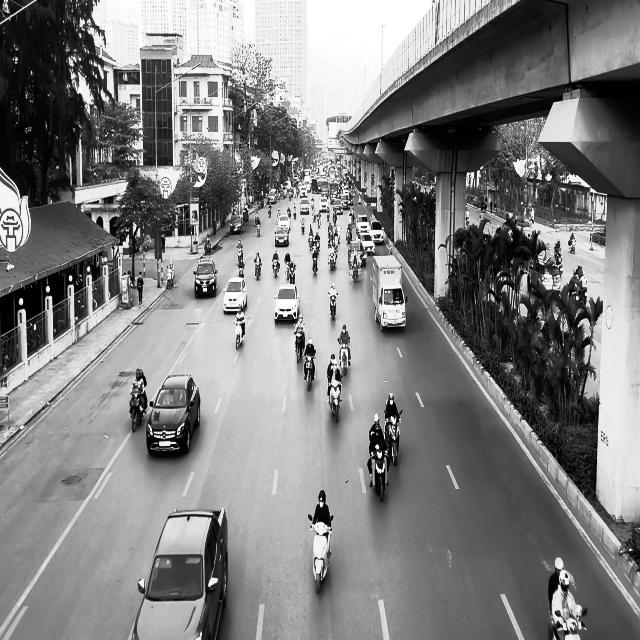car: (130, 507, 228, 639), (146, 372, 201, 456), (273, 282, 300, 322), (222, 276, 248, 314), (193, 258, 217, 298), (274, 226, 289, 246), (229, 215, 244, 234)
motorbike: (308, 513, 333, 593), (548, 606, 587, 640), (369, 446, 389, 502), (384, 410, 402, 465), (129, 388, 147, 432), (327, 379, 342, 422), (337, 337, 350, 376), (303, 353, 315, 391), (234, 318, 245, 349), (294, 330, 304, 362), (328, 292, 337, 320), (272, 256, 280, 277), (254, 260, 262, 280)
truck: (372, 254, 407, 332)
